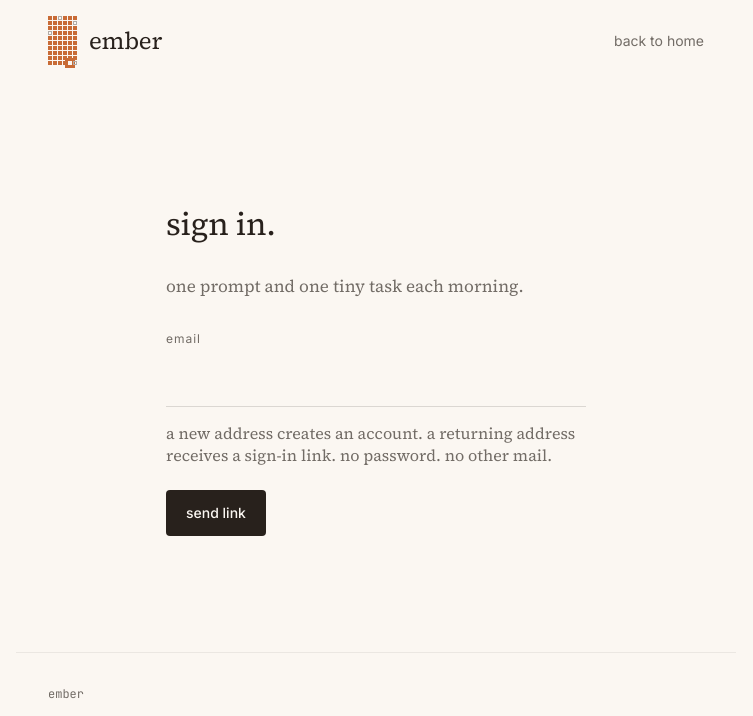
Test: SigninPage — sent state › shows confirmation paragraph after successful send
Step 1. Type "user@example.com" into the field labelled "email" → [376, 382], box [166, 357, 586, 407]
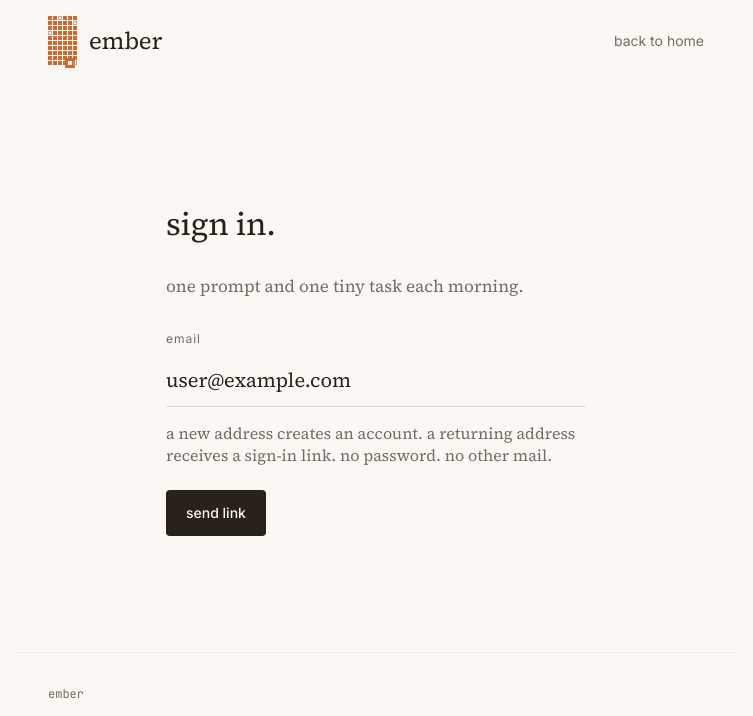
Step 2. Submit the form, box [166, 330, 586, 536]
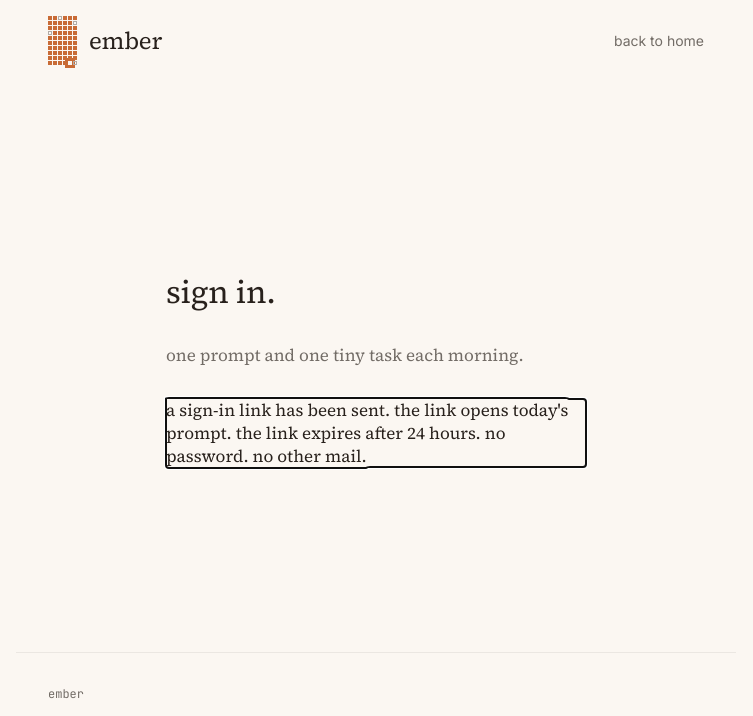
Now the text with test id "signin-confirmation" is shown, box [166, 399, 586, 467]
Now the button "send link" is gone
